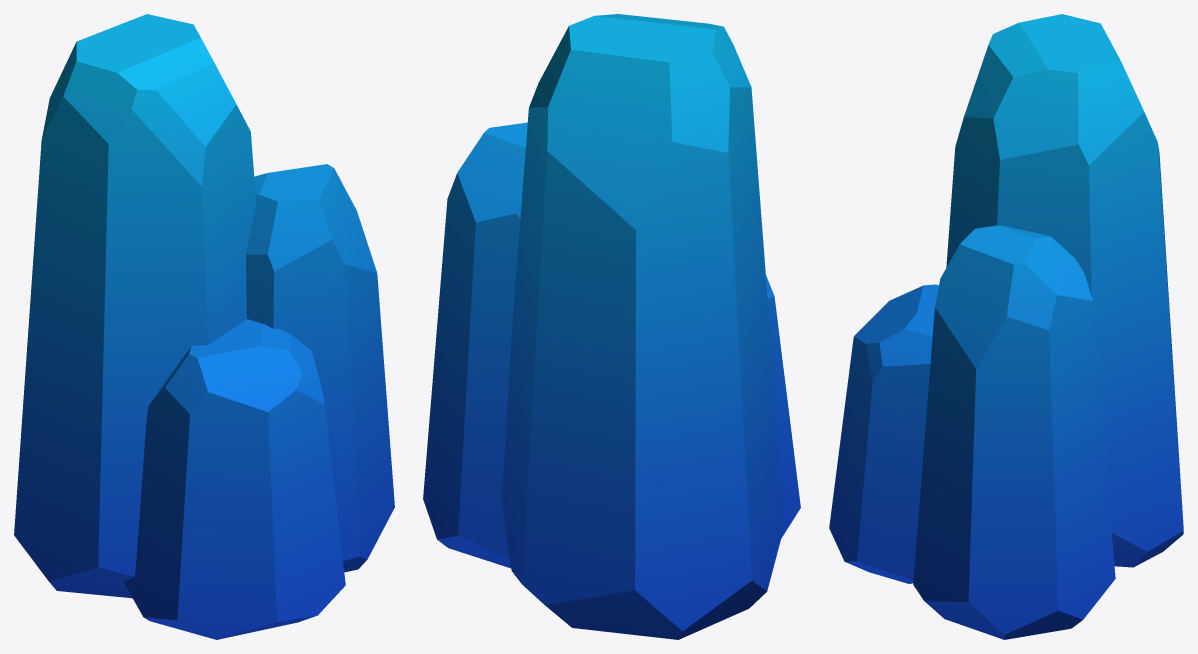
File: crystal_13.glb
3 views of the same model, side by side, from view 1: azimuth 30°, elevation 25°; view 2: azimuth 150°, elevation 25°; view 3: azimuth 270°, elevation 25° (orthographic). The views are drawn at different scales.
Visible parts, largest first — view 1: crystal_13; view 2: crystal_13; view 3: crystal_13.
Part boxes in pixels (x1=…): crystal_13: x1=14, y1=14, x2=394, y2=639; crystal_13: x1=423, y1=14, x2=800, y2=639; crystal_13: x1=829, y1=14, x2=1183, y2=639.
Bounding box in the file's own units: 5.66 × 8.71 × 5.59.
Materials: 1 (1 with a texture image).
